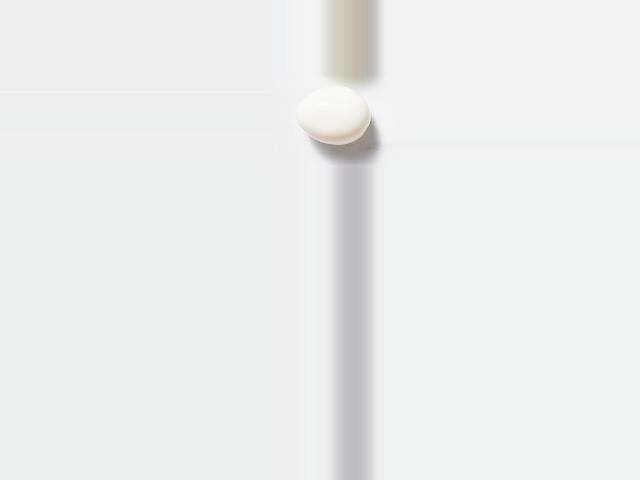egg: (297, 86, 371, 145)
